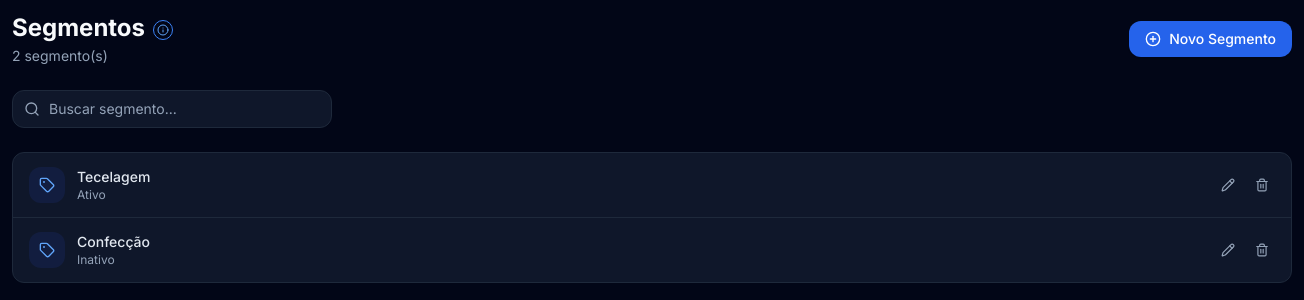
Scenario: SegmentosPage › filtra segmentos pela busca
The image size is (1304, 300).
Expected: the text "Tecelagem" is shown, [77,167,150,187]
Type "Confecção" into the field with placeholder "Buscar segmento..." at (172, 109), box [12,90,332,128]
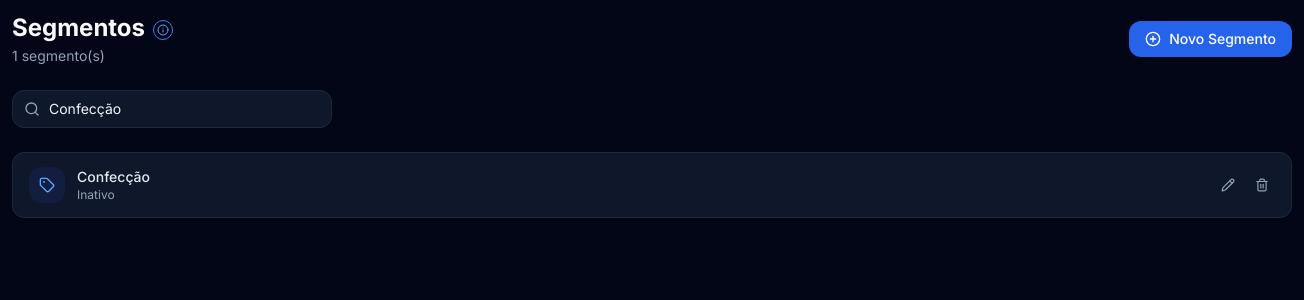
Expected: the text "Confecção" is shown, [77,167,150,187]
Result: the text "Tecelagem" is gone
Result: the text "1 segmento(s)" is shown at [12,47,105,64]
